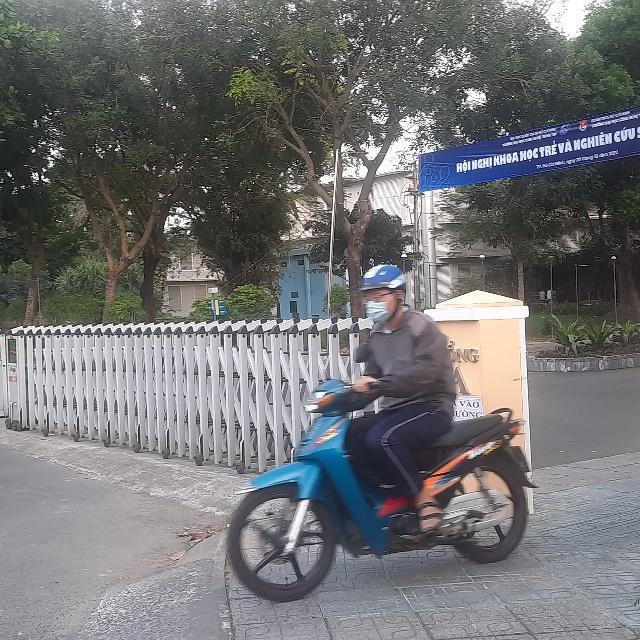Helmet: (364, 264, 406, 320)
